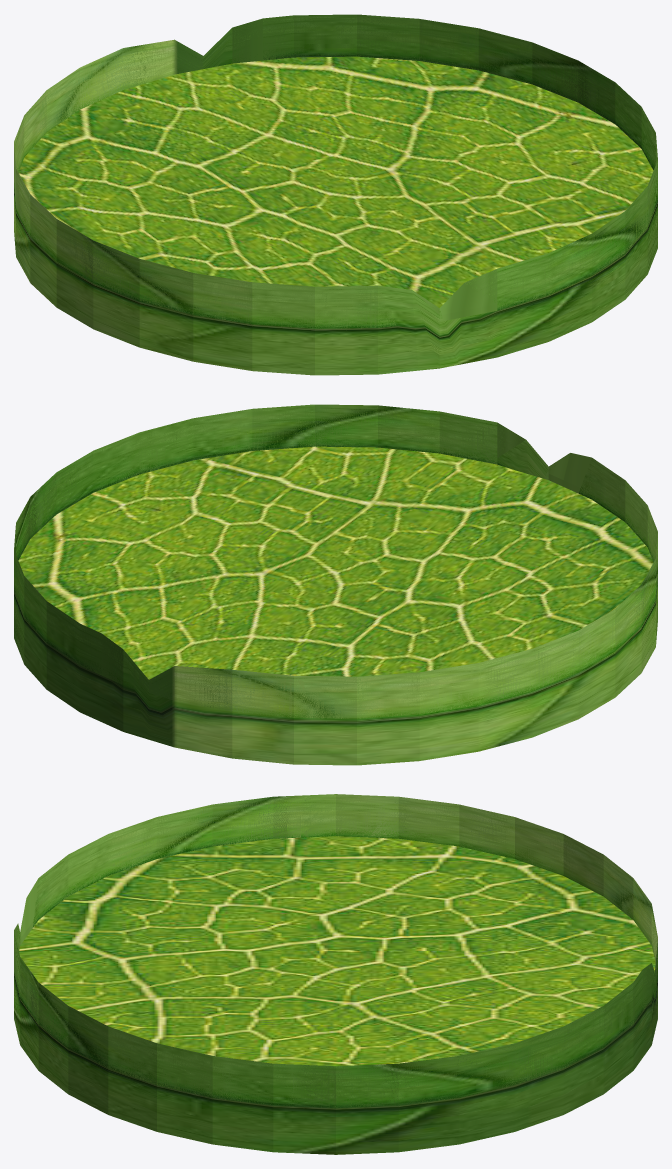
Rendered from vitória-régia .fbx.
3 views of the same model, one above another, from view 1: azimuth 30°, elevation 25°; view 2: azimuth 150°, elevation 25°; view 3: azimuth 270°, elevation 25° (orthographic).
Visible parts, largest first — view 1: Cilindro; view 2: Cilindro; view 3: Cilindro.
Part boxes in pixels (x1,y1,x2,y2): Cilindro: (14,14,657,375); Cilindro: (14,404,657,765); Cilindro: (14,794,657,1154).
Bounding box in the file's own units: 200 × 30.38 × 200.
